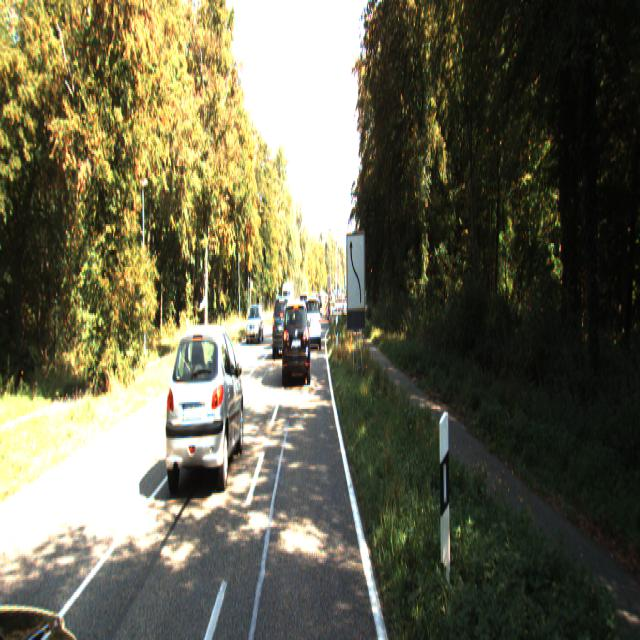Car: (164, 316, 244, 493), (282, 294, 310, 382), (272, 292, 294, 355), (306, 293, 321, 345), (246, 300, 264, 340)
